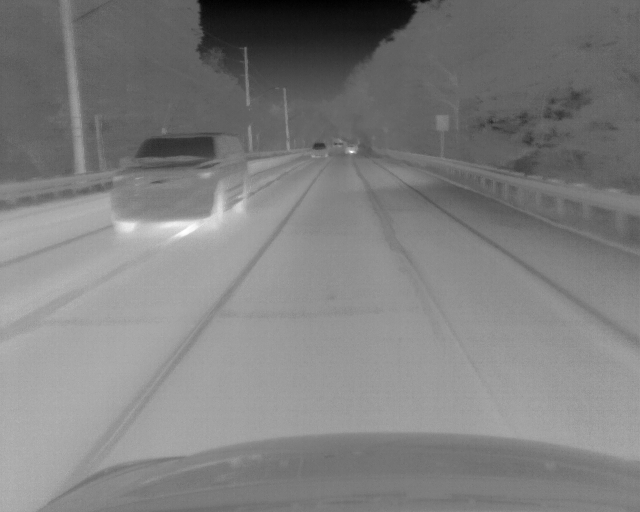car: (111, 133, 249, 232), (311, 140, 328, 160), (344, 144, 357, 156)
